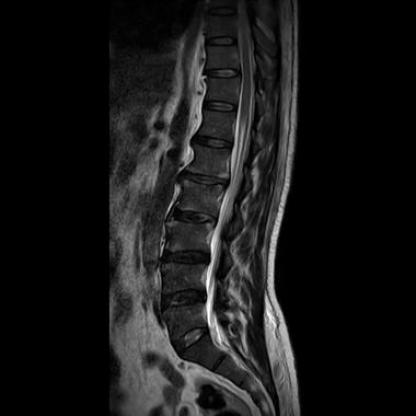Annular Tearrotation: (163, 287, 206, 311)
Disc Bulgerotation: (171, 205, 220, 231), (158, 246, 211, 270), (163, 287, 206, 311)
Disc Protrusionrotation: (182, 170, 231, 188)
